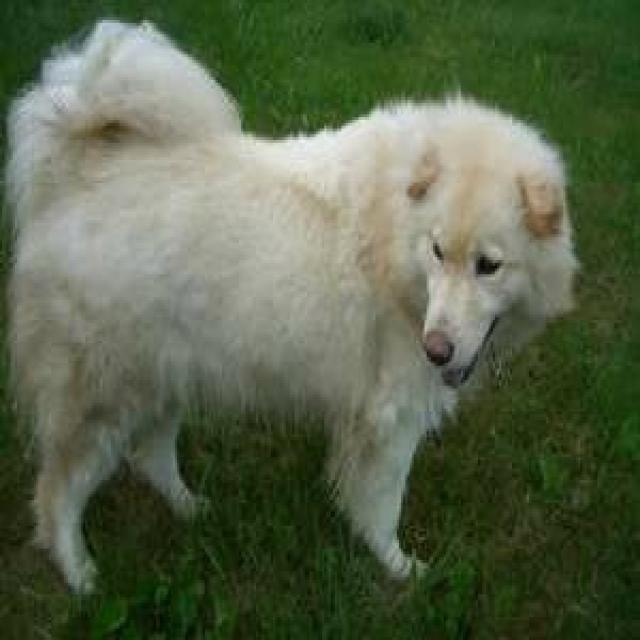dog: (0, 14, 580, 594)
